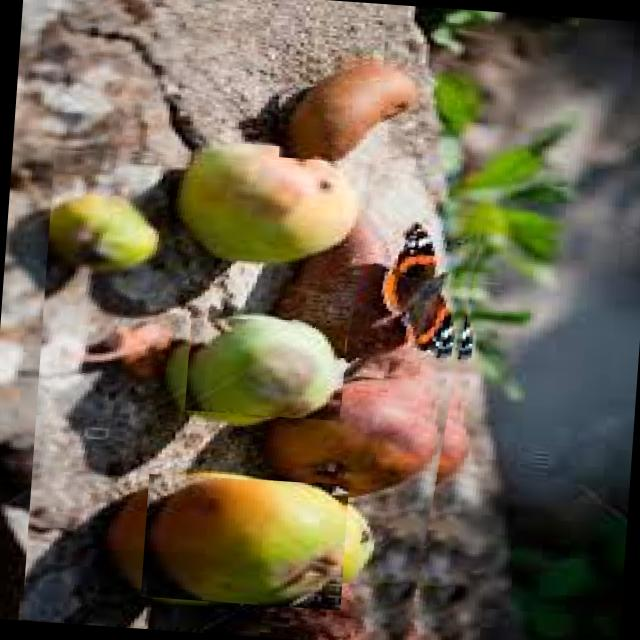Organic: (20, 143, 490, 640), (140, 470, 348, 610), (182, 310, 348, 421), (270, 50, 422, 166)
